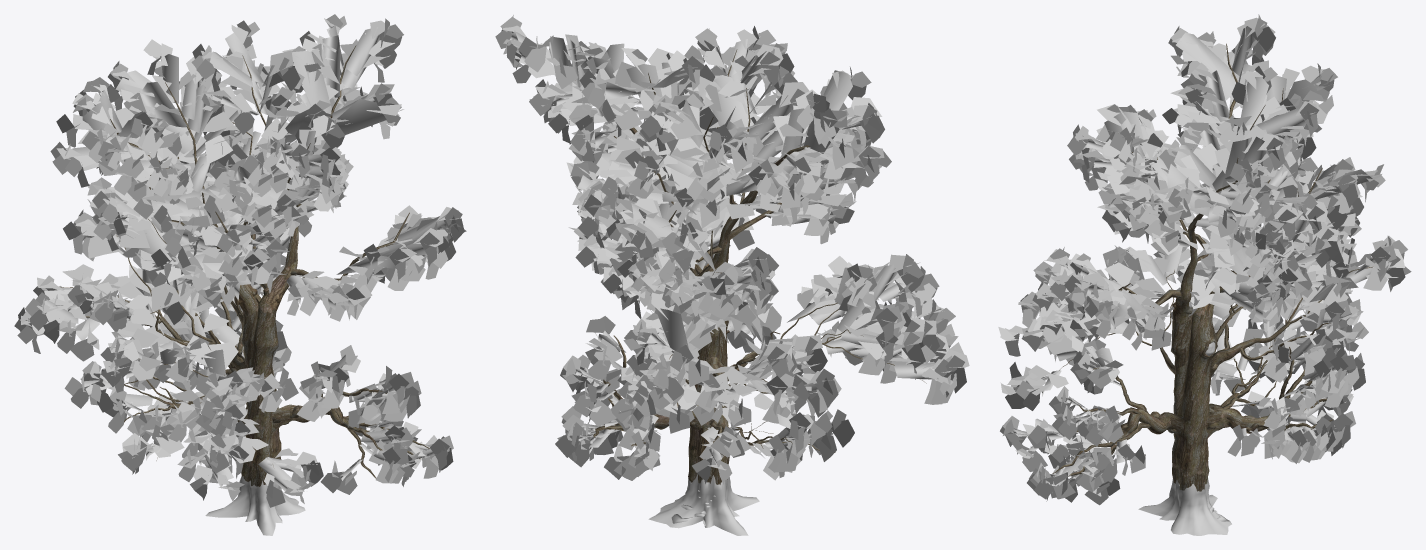
Rendered from uploads_files_1970948_broadleaf_hero_field.fbx.
3 renders of one model, left to right at view 1: azimuth 30°, elevation 25°; view 2: azimuth 150°, elevation 25°; view 3: azimuth 270°, elevation 25°, orthographic. The views are drawn at different scales.
Visible parts, largest first — view 1: Broadleaf_Hero_Field_8; view 2: Broadleaf_Hero_Field_8; view 3: Broadleaf_Hero_Field_8.
Boxes of the visible parts, left/top/right/bottom form: Broadleaf_Hero_Field_8: left=14, top=14, right=466, bottom=535; Broadleaf_Hero_Field_8: left=495, top=15, right=969, bottom=535; Broadleaf_Hero_Field_8: left=998, top=14, right=1411, bottom=535.
Size of what is drawn, in the model's own units: 1201 by 1233 by 1456.
